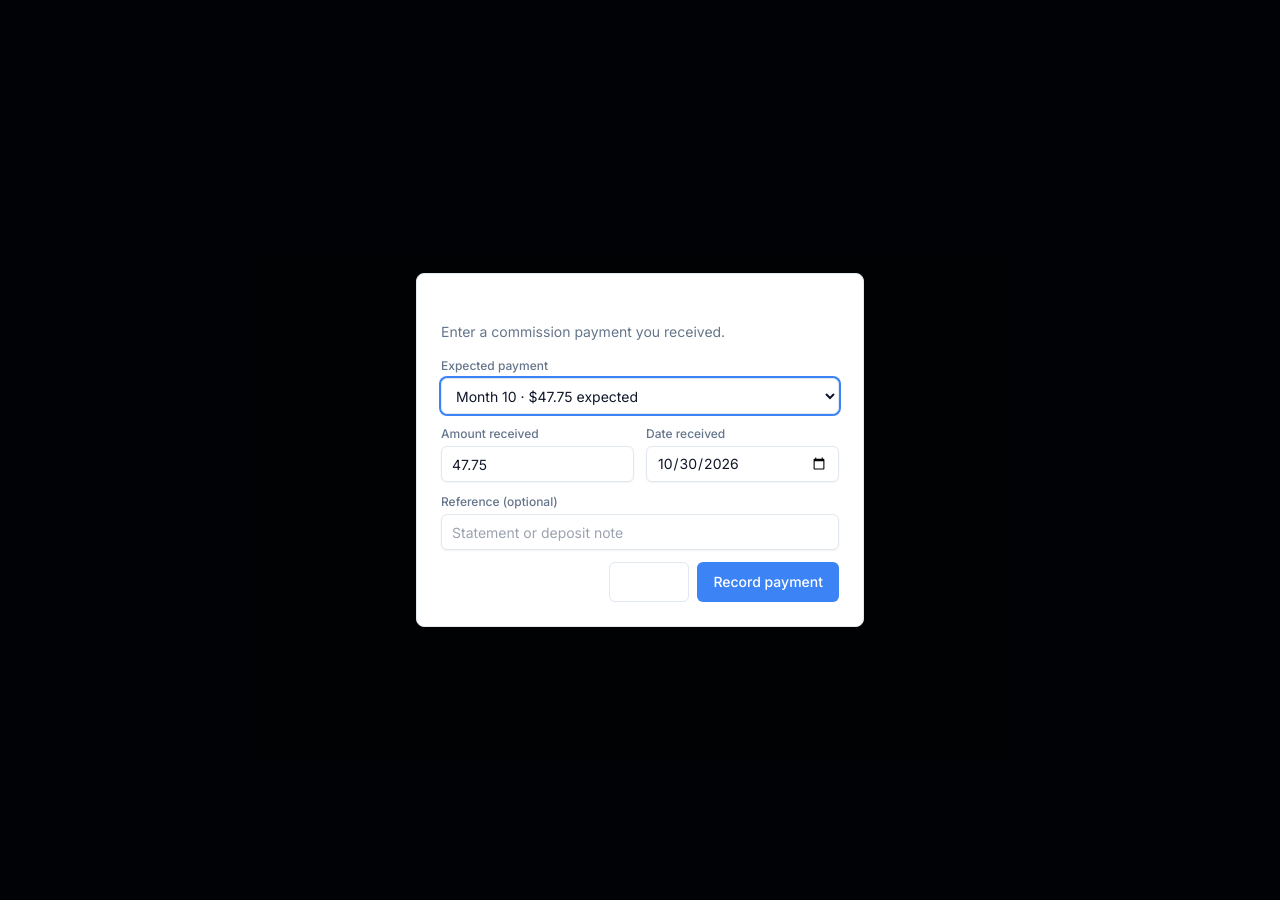
Test case: RecordPaymentDialog › shows a refusal without sending an invalid amount
The image size is (1280, 900).
Replace the text in the field labelled "Amount received" with "12.345" at coordinates (538, 464), box [441, 446, 634, 482]
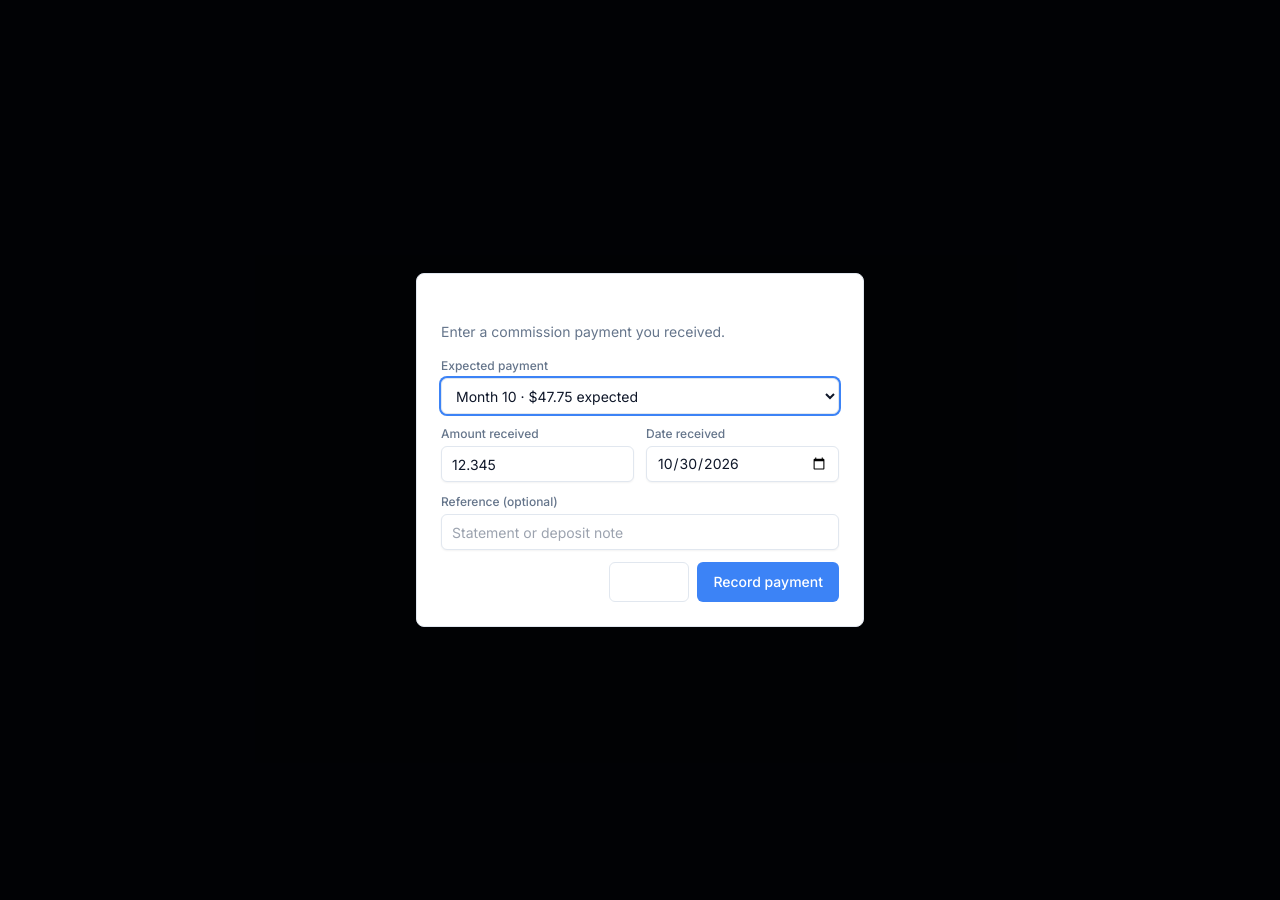
Click the button "Record payment" at coordinates (768, 582), box [697, 562, 839, 602]
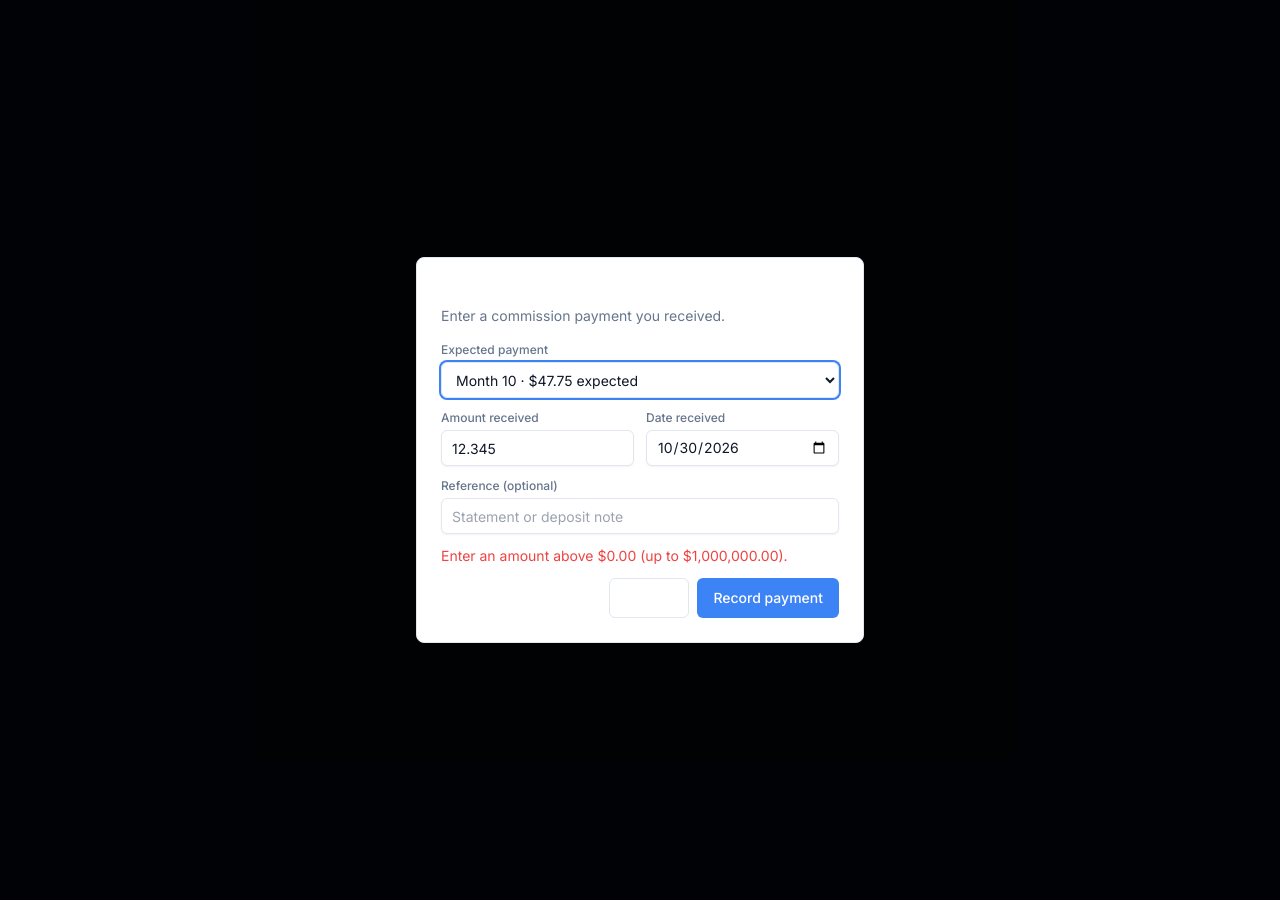
Expected: the message shows "above $0.00", [441, 547, 788, 564]
